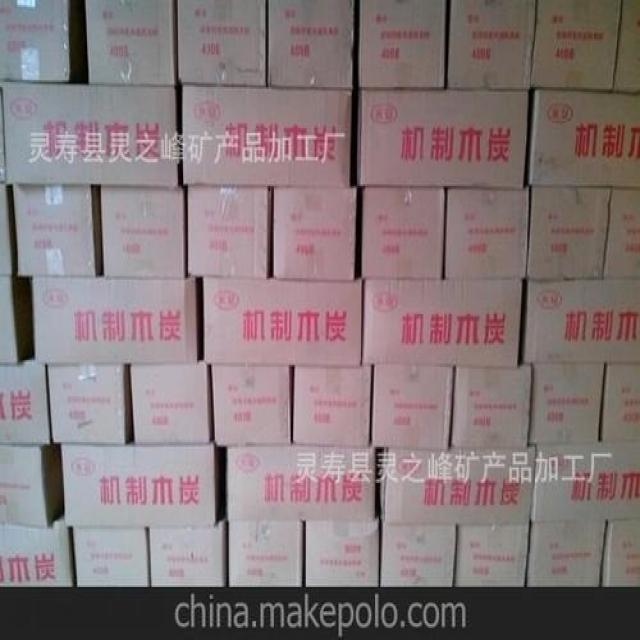box: (2, 82, 178, 185), (180, 85, 353, 188), (359, 88, 528, 188), (34, 275, 197, 366), (202, 277, 362, 366), (361, 280, 522, 366), (61, 446, 226, 527), (378, 447, 535, 523), (227, 445, 377, 521), (528, 92, 639, 187), (520, 278, 639, 366), (529, 440, 639, 523), (11, 186, 104, 275), (82, 1, 176, 87), (353, 2, 447, 88), (532, 0, 621, 89), (445, 2, 536, 89), (186, 188, 273, 278), (175, 1, 266, 87), (102, 185, 187, 277), (361, 188, 445, 280), (273, 189, 356, 281), (445, 189, 530, 278), (526, 190, 611, 279), (266, 3, 354, 88), (0, 1, 82, 85), (129, 365, 214, 445), (47, 366, 133, 445), (372, 366, 455, 447), (292, 367, 374, 447), (451, 366, 531, 448), (212, 365, 292, 446), (528, 364, 606, 446), (146, 515, 229, 587), (0, 444, 64, 529), (526, 521, 606, 586), (0, 516, 73, 585), (302, 521, 380, 585), (381, 524, 457, 587), (227, 522, 302, 585), (71, 527, 149, 587), (455, 523, 530, 585), (0, 359, 53, 445), (603, 188, 639, 278), (601, 364, 639, 443), (0, 276, 29, 364), (601, 517, 639, 584), (614, 0, 639, 90), (0, 184, 16, 277)
